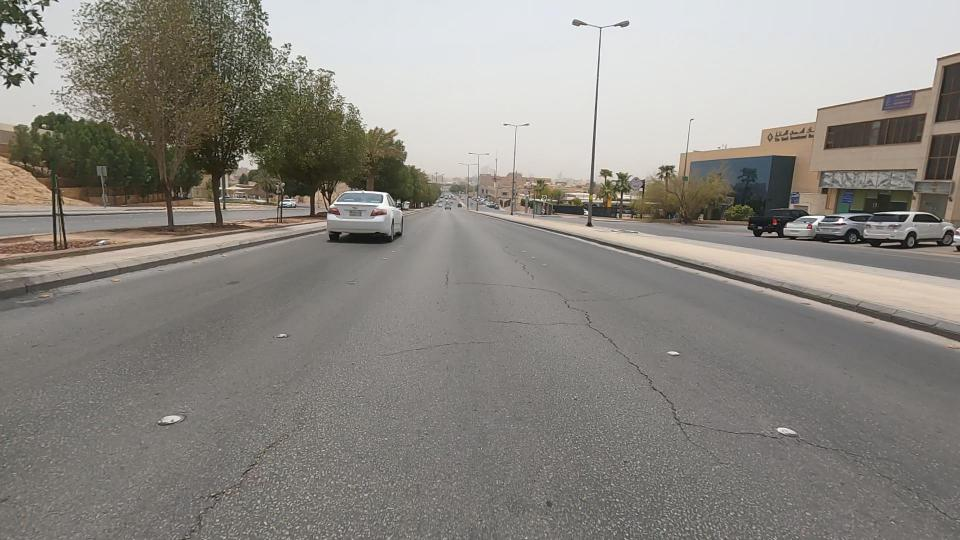BAD_BILLBOARD: (753, 158, 960, 204)
